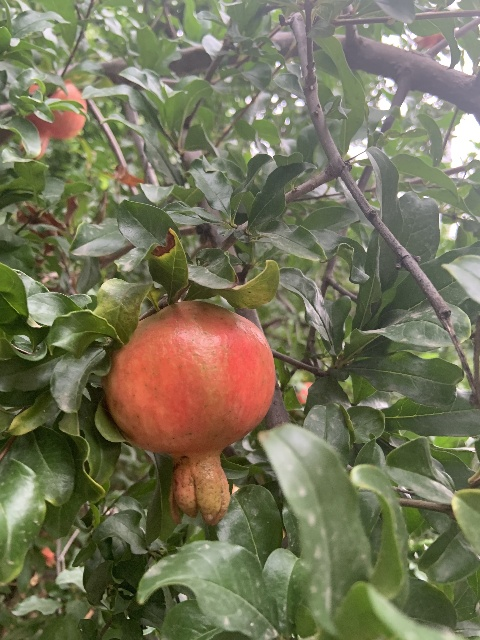ripe: (101, 301, 275, 526), (14, 80, 86, 159)
